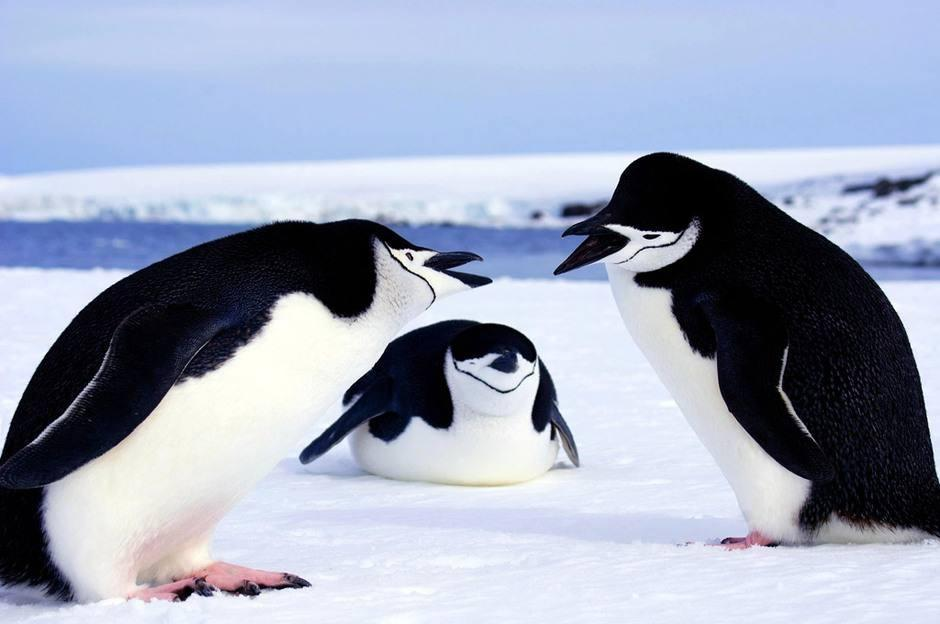Penguin: (0, 220, 490, 601), (556, 152, 938, 548), (299, 319, 578, 485)
